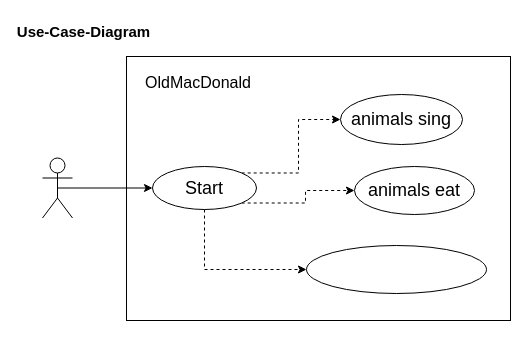
Some shapes in this 528 by 338 pixel diagram are drawn without their labels. The centre of each missing label's shape, as x and y in pixels:
animals do special Action: the point at 396,269
User: the point at 57,187
